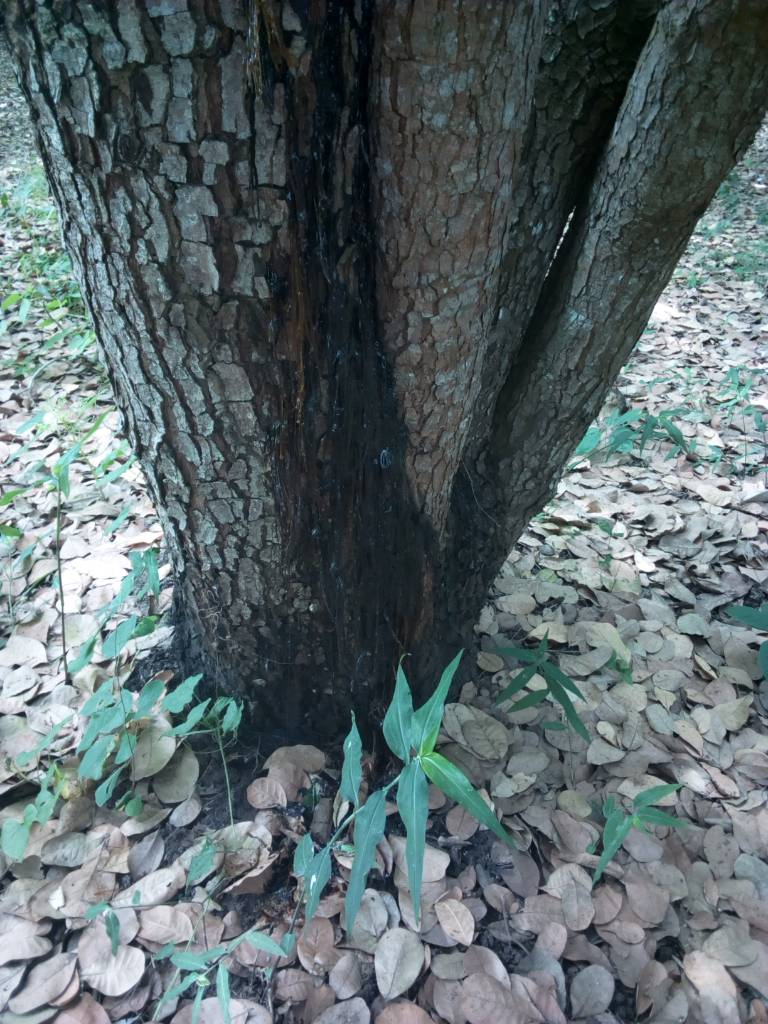Gommose: (272, 11, 413, 708)
